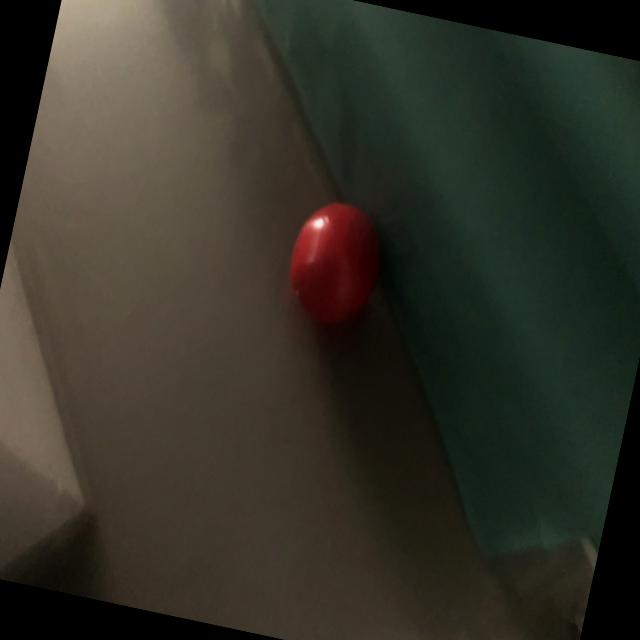red_ball: (274, 191, 397, 335)
